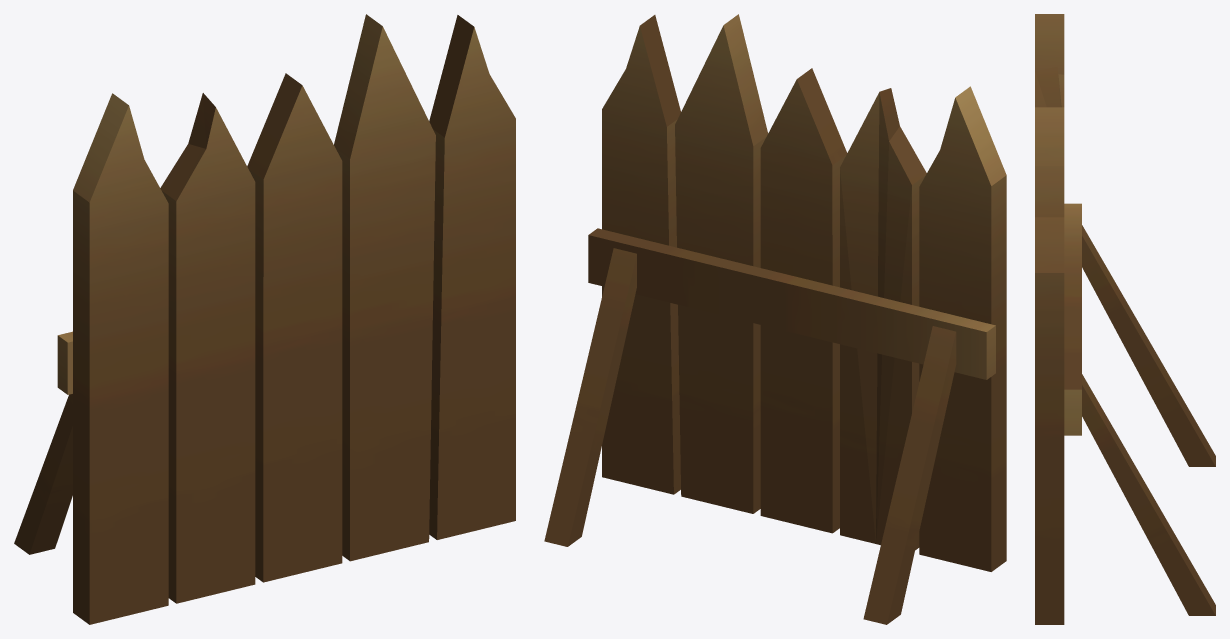
The model's file is pack04_fences_08.fbx.
3 views of the same model, side by side, from view 1: azimuth 30°, elevation 25°; view 2: azimuth 150°, elevation 25°; view 3: azimuth 270°, elevation 25° (orthographic). The views are drawn at different scales.
Visible parts, largest first — view 1: Medium_Fence_01; view 2: Medium_Fence_01; view 3: Medium_Fence_01.
Boxes of the visible parts, x1,y1,x2,y2 form: Medium_Fence_01: (14, 14, 515, 624); Medium_Fence_01: (544, 14, 1006, 624); Medium_Fence_01: (1035, 14, 1215, 624).
Bounding box in the file's own units: 36.41 × 42.15 × 14.95.
Materials: 1 (1 with a texture image).
